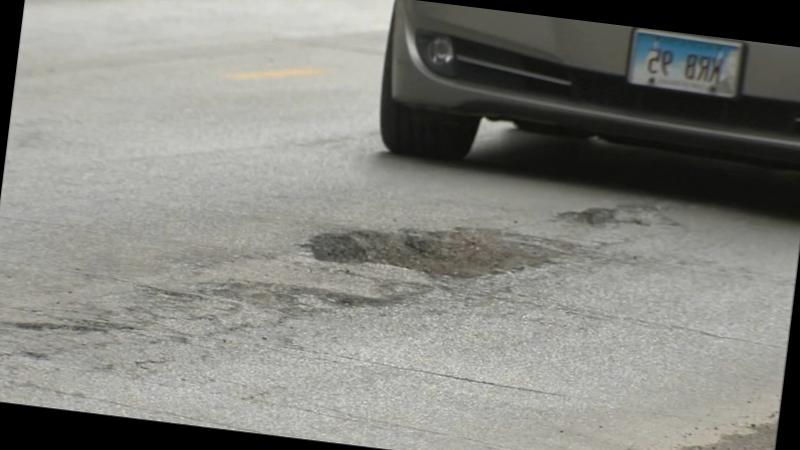pothole: (277, 147, 684, 366)
